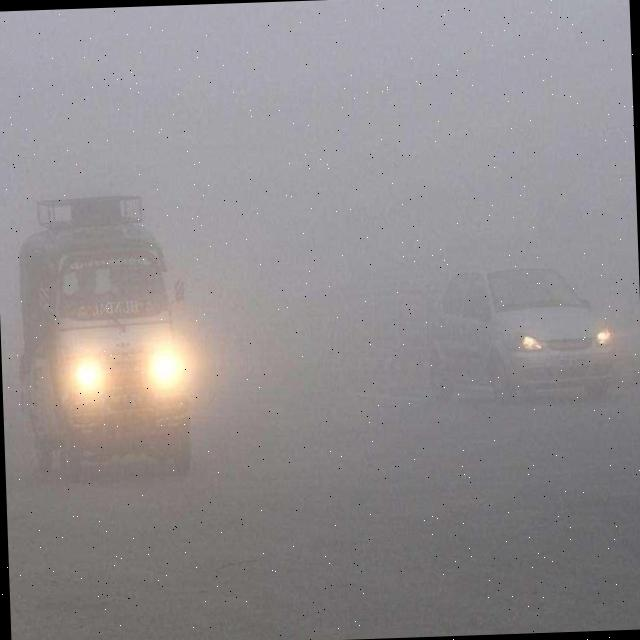car: (13, 191, 208, 487), (430, 262, 610, 406)
